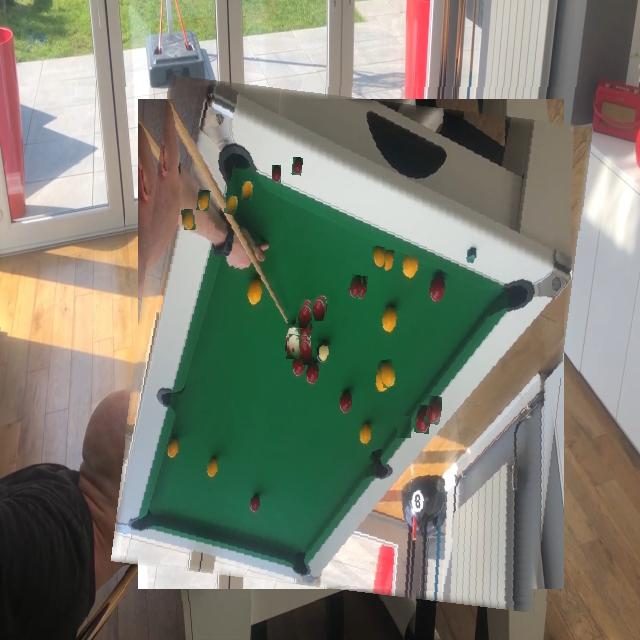Ball: (425, 396, 442, 424), (382, 360, 398, 388), (245, 371, 260, 398), (297, 305, 313, 329), (320, 322, 335, 346), (299, 340, 313, 365), (396, 416, 411, 438), (288, 334, 301, 359), (349, 275, 363, 298), (312, 299, 326, 321), (183, 209, 196, 230), (373, 246, 385, 267), (225, 195, 238, 214), (274, 165, 284, 183)
Billiard table: (126, 87, 580, 601)
